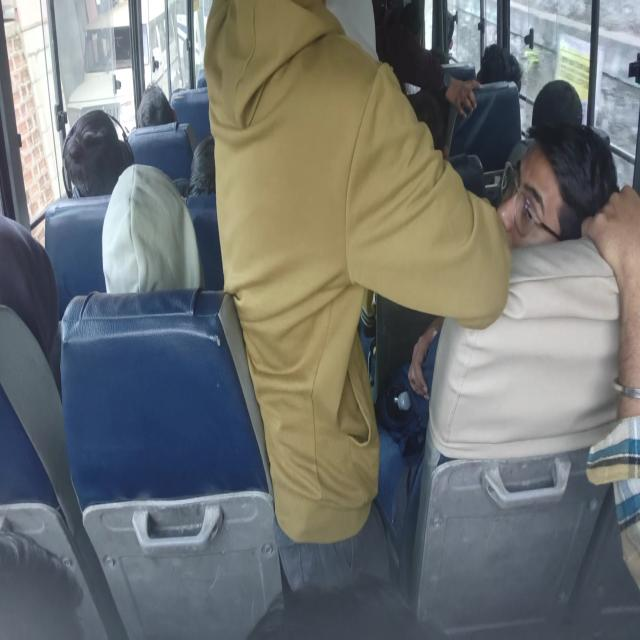person: (202, 0, 512, 594), (407, 114, 620, 588), (580, 182, 640, 590), (101, 162, 204, 294)
